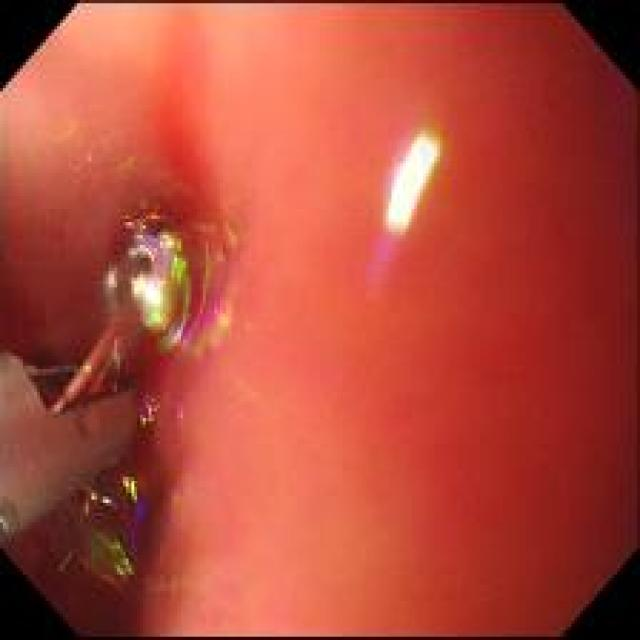color misalignment: (156, 226, 234, 355), (75, 529, 134, 588), (121, 475, 147, 526)
instrument: (2, 214, 191, 544)
specularity: (385, 137, 438, 232), (133, 277, 162, 302)
